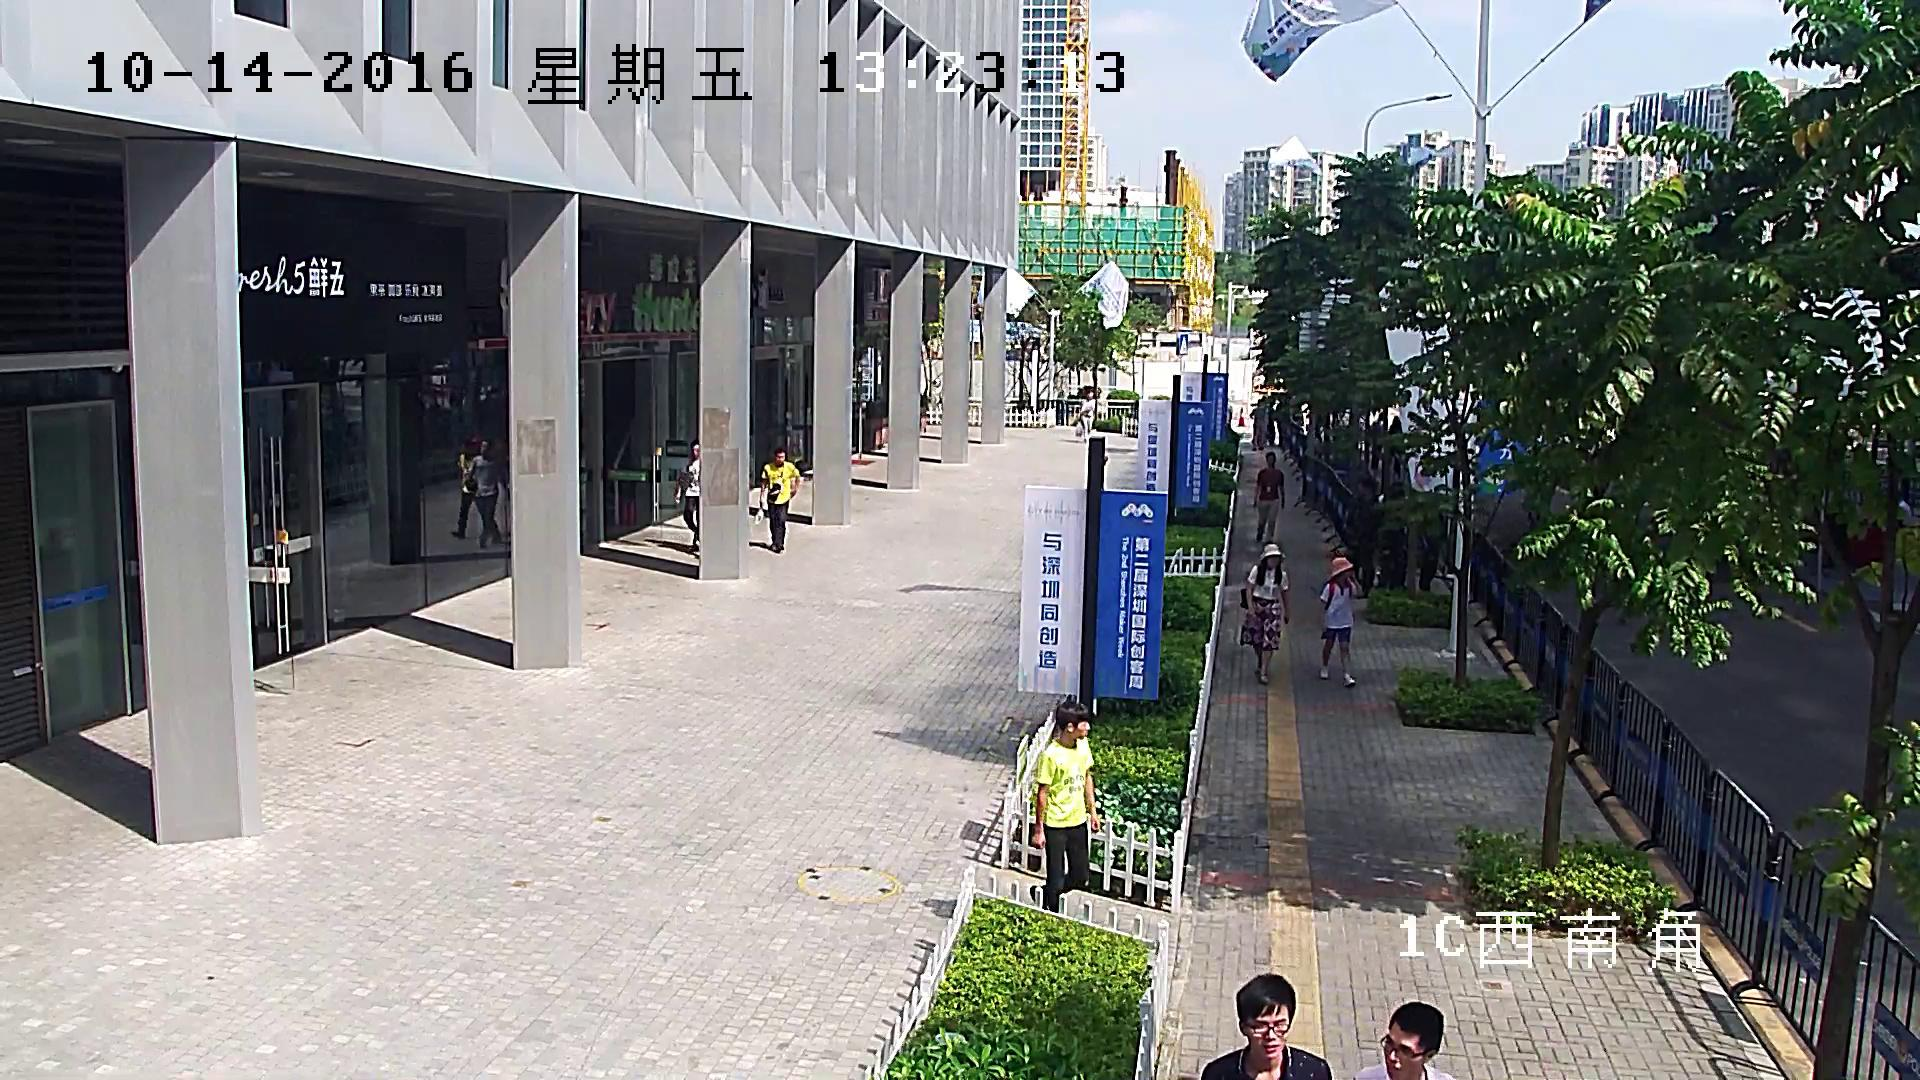person: (1030, 701, 1101, 913), (1200, 971, 1331, 1080), (1239, 542, 1290, 685), (1319, 556, 1364, 688), (753, 448, 800, 553), (464, 438, 506, 548), (1347, 476, 1380, 599), (672, 438, 701, 551), (1252, 450, 1285, 542), (450, 438, 474, 540), (1415, 540, 1440, 593), (1075, 389, 1097, 443), (1368, 411, 1383, 469), (1249, 399, 1265, 451)
